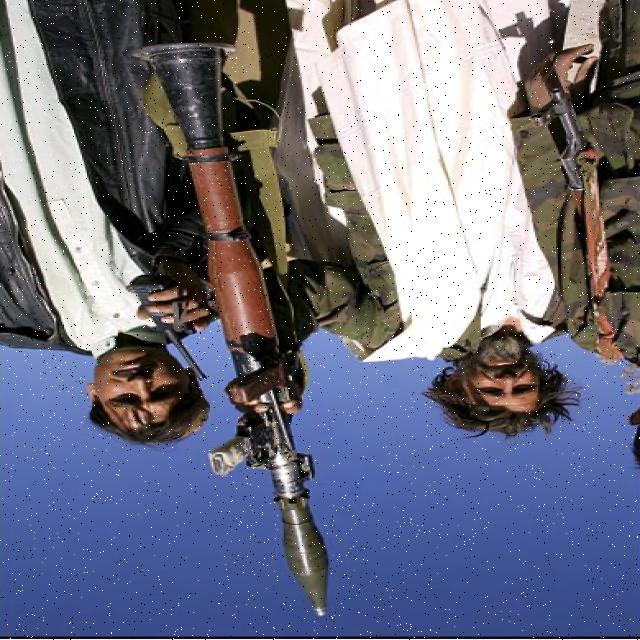bazooka: (114, 29, 339, 629)
